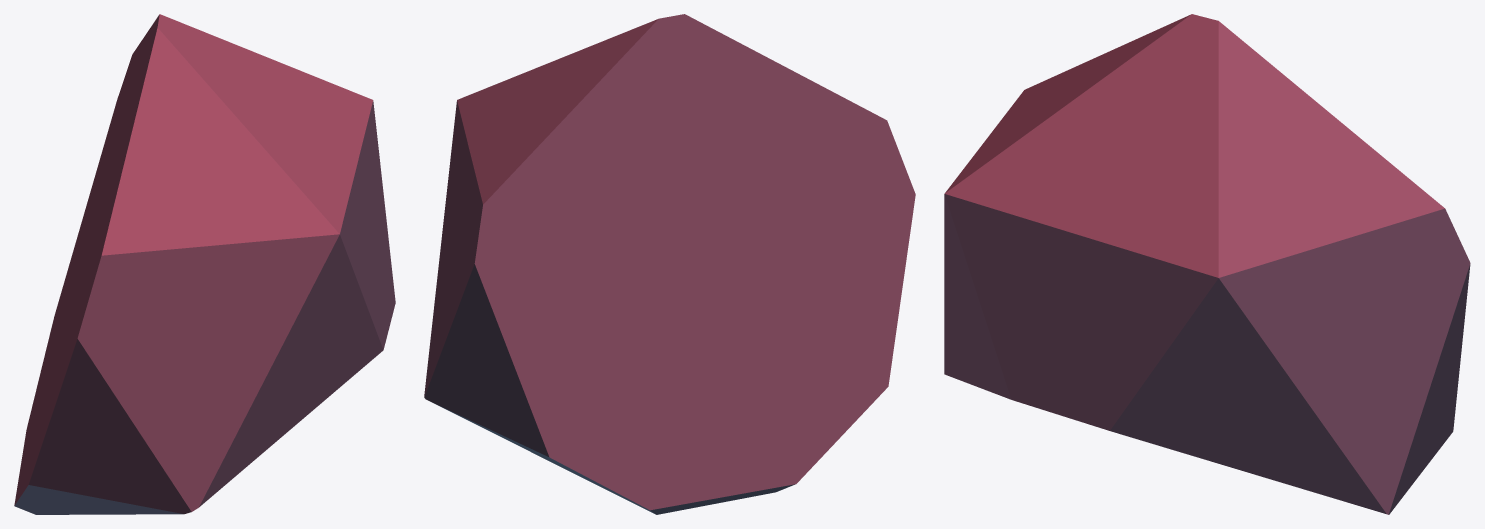
The model's file is geology-crystals-gemstone_v5.glb.
3 renders of one model, left to right at view 1: azimuth 30°, elevation 25°; view 2: azimuth 150°, elevation 25°; view 3: azimuth 270°, elevation 25°, orthographic. The views are drawn at different scales.
Visible parts, largest first — view 1: gemstone_v5; view 2: gemstone_v5; view 3: gemstone_v5.
Part boxes in pixels (x1=…): gemstone_v5: x1=14, y1=14, x2=395, y2=514; gemstone_v5: x1=424, y1=14, x2=915, y2=514; gemstone_v5: x1=944, y1=14, x2=1470, y2=514.
Size of the model in its own units: 16.11 by 18.12 by 17.27.
